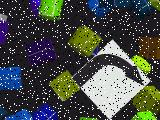Right: (71, 40, 151, 120)
